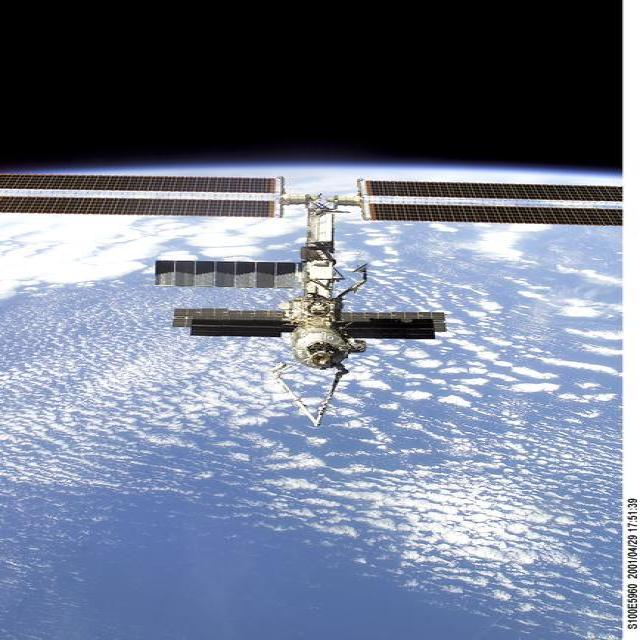satellite: (0, 144, 597, 420)
